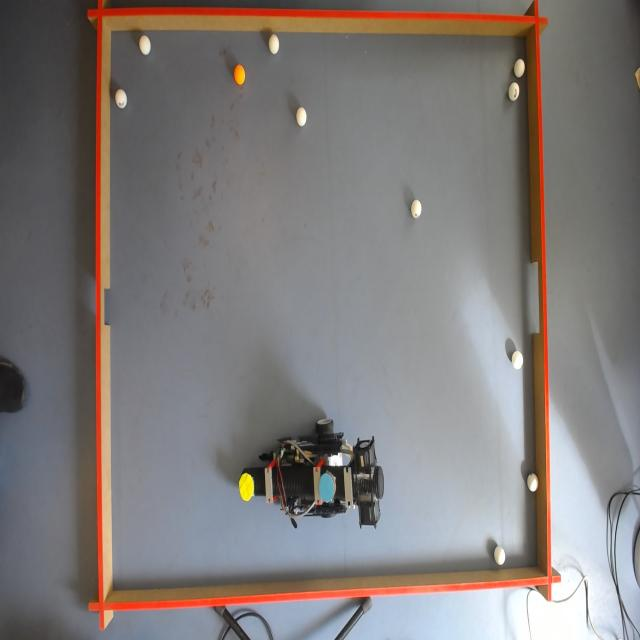orange: (232, 66, 246, 85)
robot: (239, 416, 383, 527)
robot-front: (240, 476, 254, 500)
robot-rear: (316, 468, 335, 508)
white: (493, 544, 506, 568), (267, 34, 281, 55), (138, 36, 151, 58), (114, 88, 128, 107), (508, 82, 520, 104), (296, 107, 308, 128), (527, 472, 539, 492), (410, 200, 423, 218), (512, 351, 524, 370), (514, 59, 526, 77)
